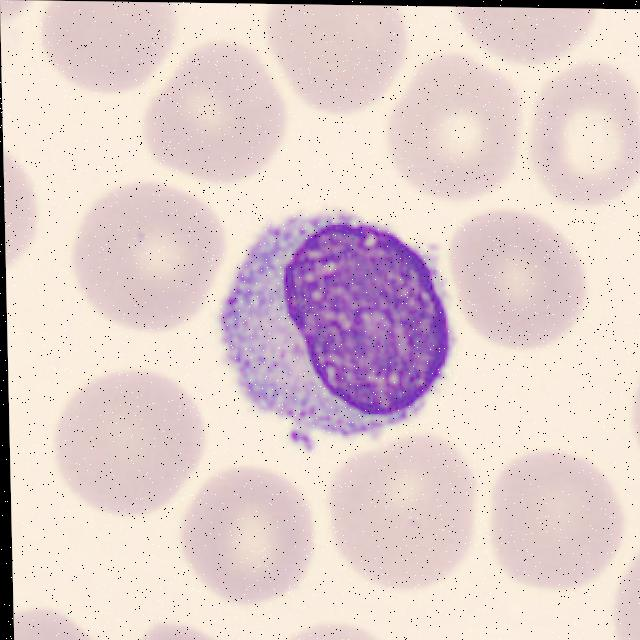lymphocyte: (217, 207, 460, 457)
rbc: (338, 442, 482, 587), (145, 53, 301, 182), (79, 185, 215, 323), (382, 60, 515, 201), (51, 372, 192, 503), (451, 213, 586, 344), (183, 476, 321, 595), (494, 448, 615, 581), (265, 4, 408, 111), (537, 62, 640, 200), (33, 0, 185, 85), (446, 7, 615, 56), (3, 145, 44, 260), (13, 602, 102, 640), (612, 531, 640, 640), (286, 618, 386, 640), (625, 346, 640, 477), (140, 616, 217, 640), (0, 0, 38, 21)
